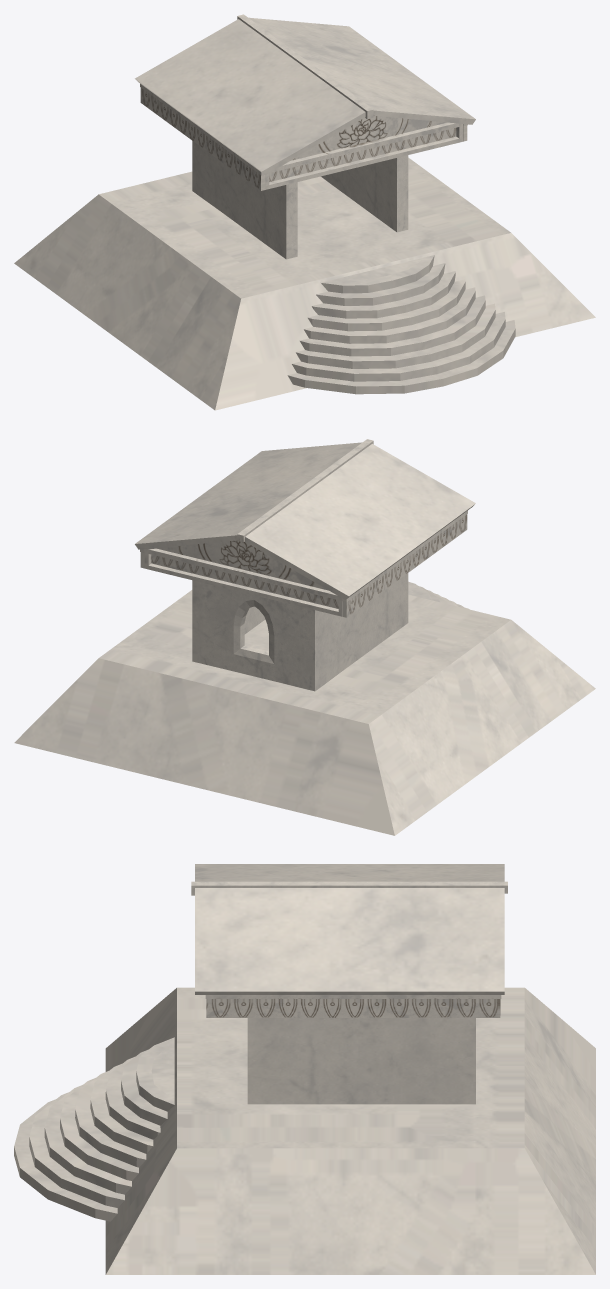
The model's file is Tample.fbx.
The picture shows the model from 3 angles, top to bottom: view 1: azimuth 30°, elevation 25°; view 2: azimuth 150°, elevation 25°; view 3: azimuth 270°, elevation 25°; orthographic projection. The views are drawn at different scales.
Visible parts, largest first — view 1: Temple2; view 2: Temple2; view 3: Temple2.
Boxes of the visible parts, x1=… form: Temple2: x1=14, y1=14, x2=595, y2=410; Temple2: x1=14, y1=439, x2=595, y2=835; Temple2: x1=14, y1=864, x2=595, y2=1274.
Size of the model in its own units: 1981 by 1134 by 2151.
